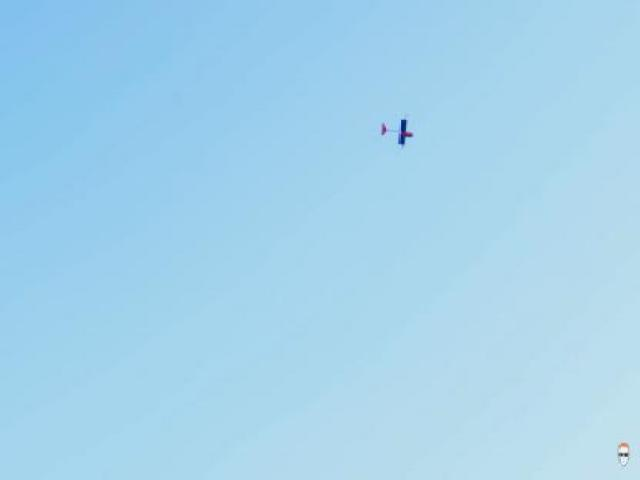uav: (378, 114, 416, 147)
